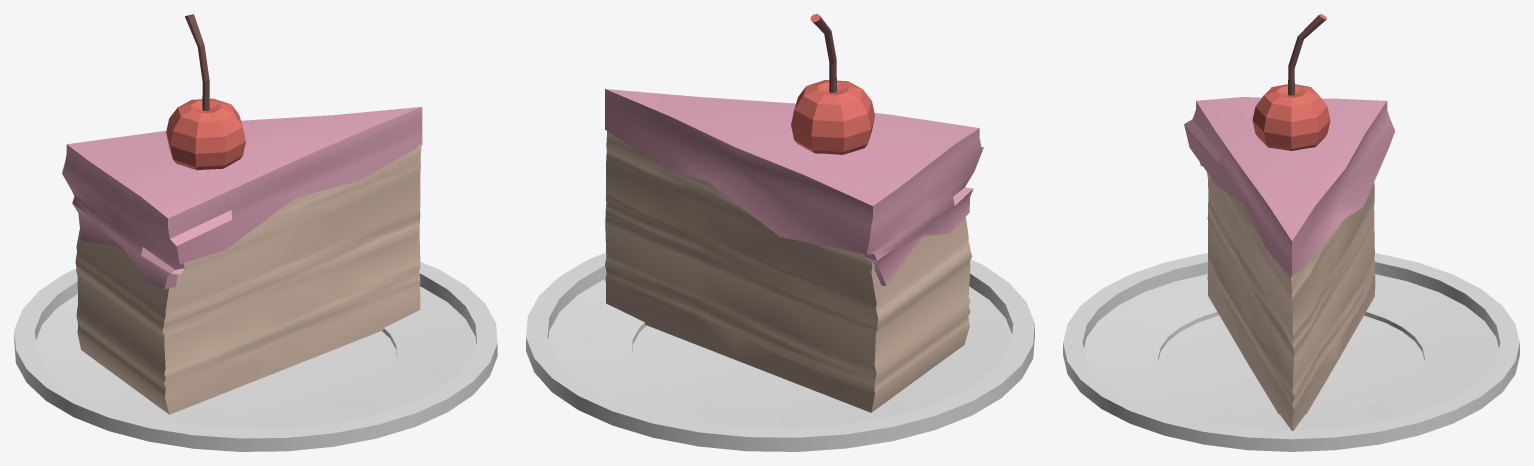
File: cake (1).fbx
3 renders of one model, left to right at view 1: azimuth 30°, elevation 25°; view 2: azimuth 150°, elevation 25°; view 3: azimuth 270°, elevation 25°, orthographic. The views are drawn at different scales.
Visible parts, largest first — view 1: K, O, K0.1, Sphere; view 2: K, O, K0.1, Sphere; view 3: O, K, K0.1, Sphere.
Boxes of the visible parts, bbox=[...] form: K: bbox=[75, 144, 421, 414]; O: bbox=[14, 262, 497, 451]; K0.1: bbox=[62, 107, 422, 288]; Sphere: bbox=[166, 14, 245, 170]; K: bbox=[605, 131, 972, 412]; O: bbox=[526, 252, 1034, 451]; K0.1: bbox=[605, 89, 983, 285]; Sphere: bbox=[791, 14, 874, 154]; O: bbox=[1063, 253, 1519, 451]; K: bbox=[1207, 176, 1375, 430]; K0.1: bbox=[1184, 97, 1395, 277]; Sphere: bbox=[1252, 14, 1330, 150].
Bounding box in the file's own units: 571 × 457 × 571.
